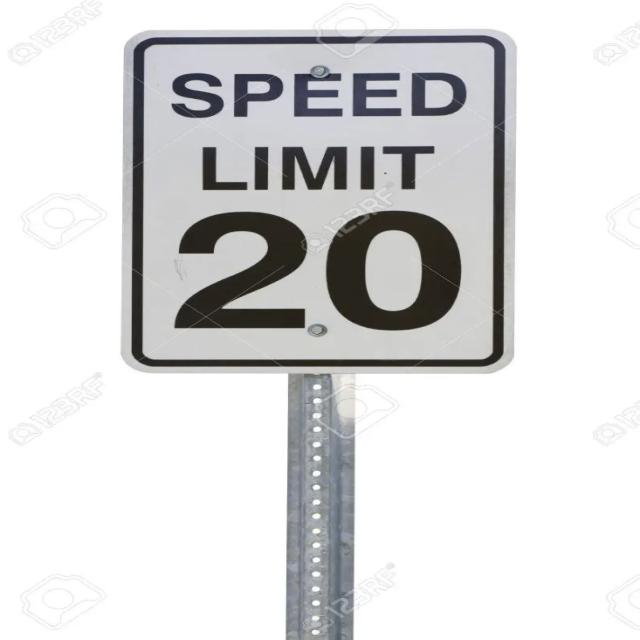speedLimit20: (138, 40, 494, 362)
